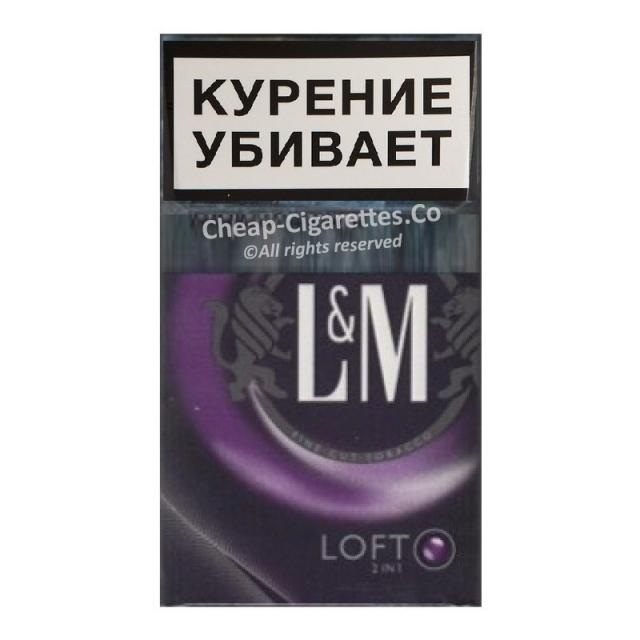lm: (142, 29, 489, 617)
